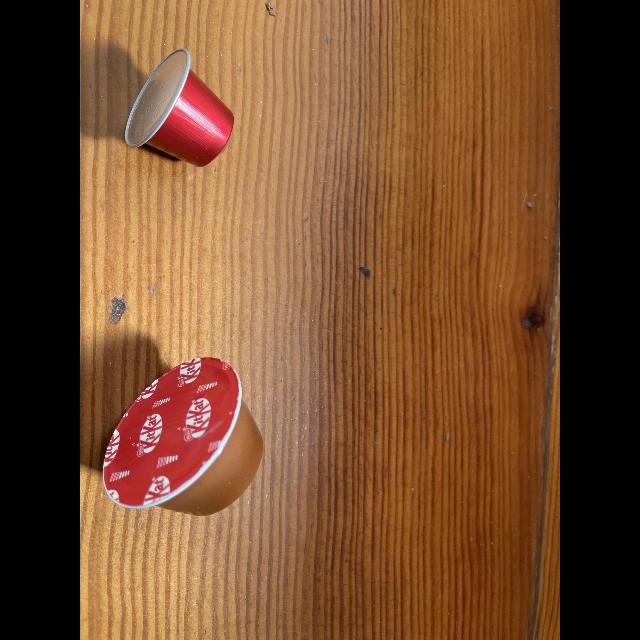intact_capsule: (94, 340, 272, 554), (121, 45, 247, 173)
